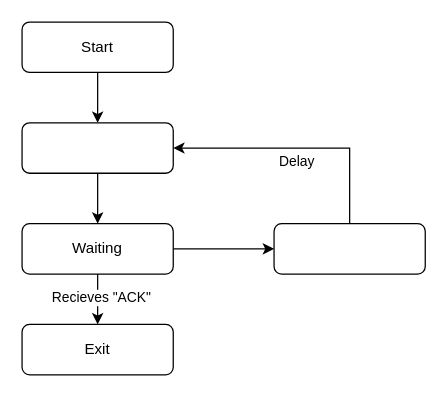
Some shapes in this 447 by 397 pixel diagram are drawn without their labels. Each missing label, with the centre of its shape:
Revies !"ACK": (349,248)
Sends 0b00100100: (97,147)
